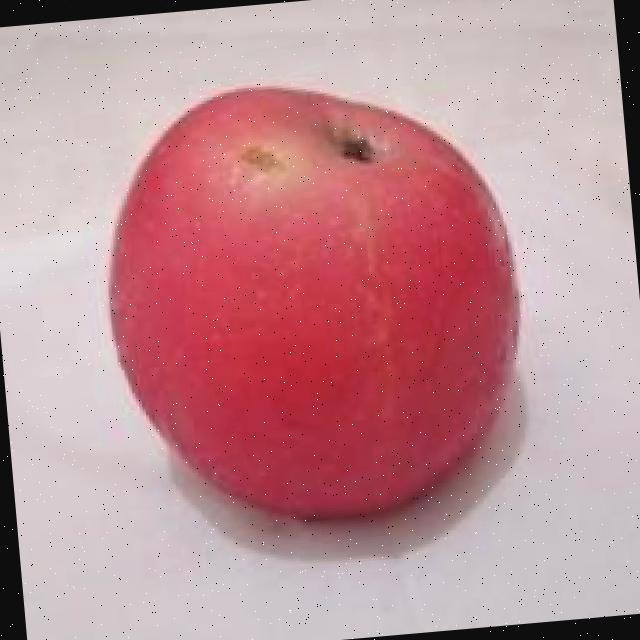apple: (63, 45, 586, 592)
